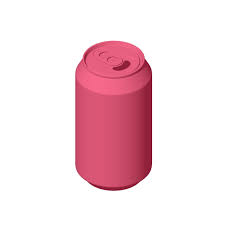can: (75, 40, 152, 191)
